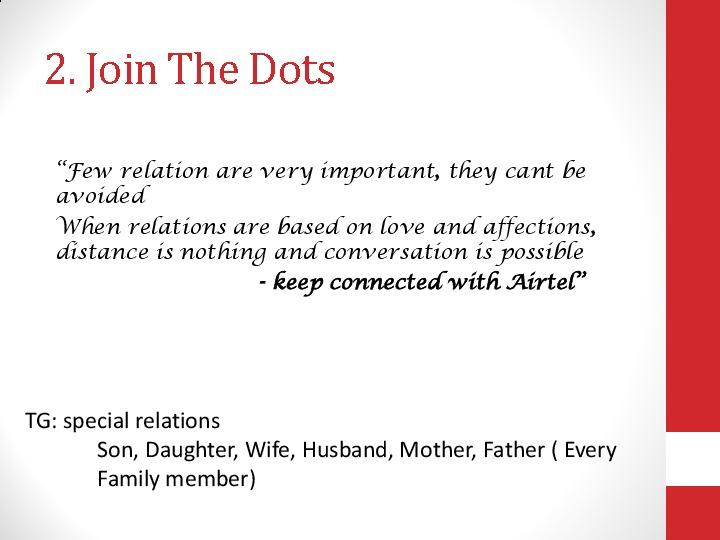paragraph: (16, 139, 640, 516)
title: (35, 36, 353, 105)
